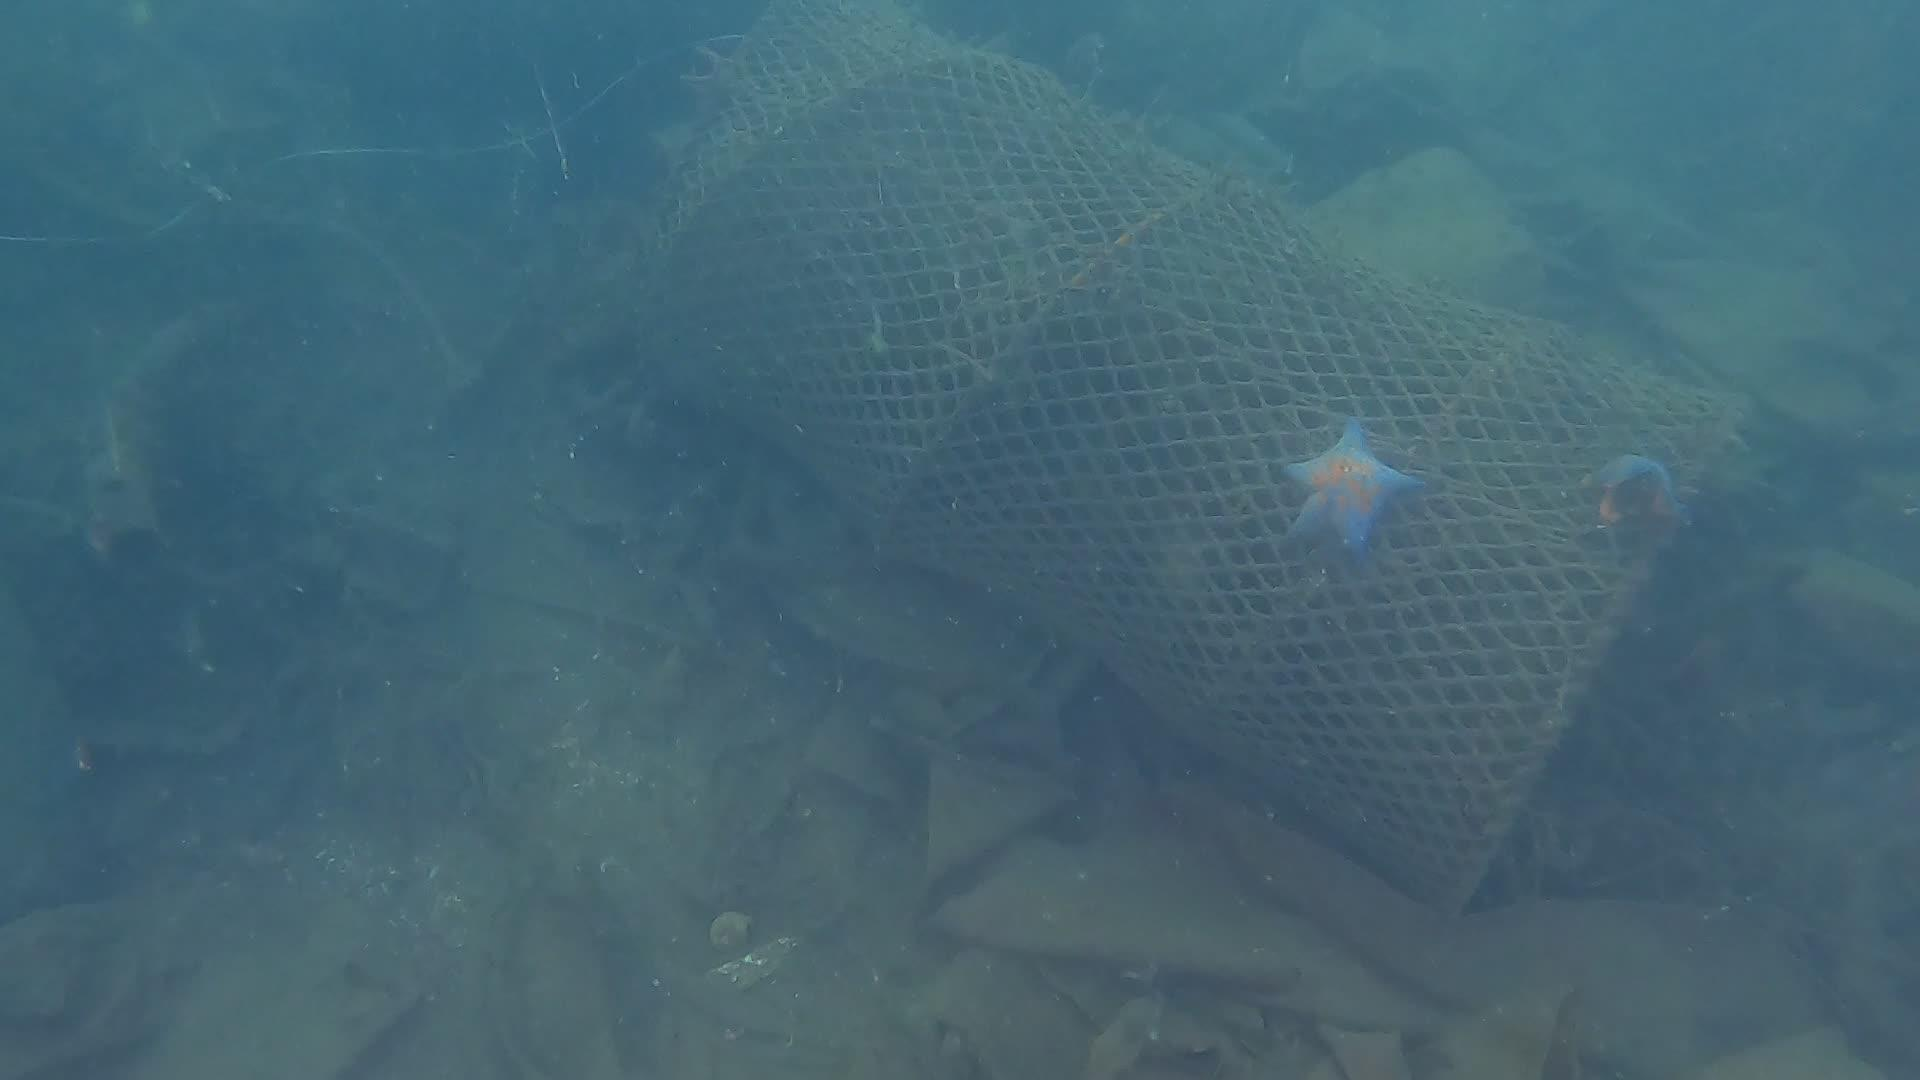spring fish trap: (607, 0, 1753, 919)
